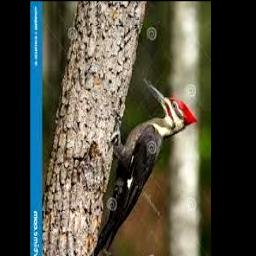Woodpecker: (88, 78, 196, 256)
